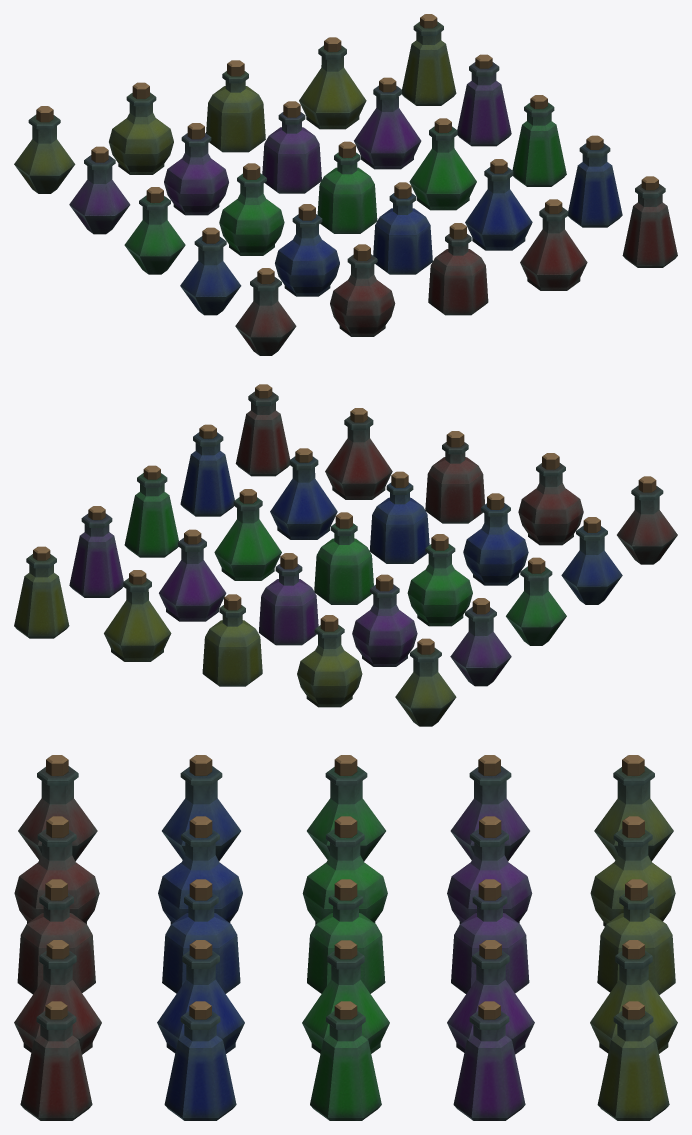
File: low_poly_potions.glb
3 renders of one model, top to bottom at view 1: azimuth 30°, elevation 25°; view 2: azimuth 150°, elevation 25°; view 3: azimuth 270°, elevation 25°, orthographic. The views are drawn at different scales.
Parts seen in each view (by area): view 1: Cylinder.067; view 2: Cylinder.067; view 3: Cylinder.067.
Part boxes in pixels (box(x1,y1,x2,y2)): Cylinder.067: box(14, 14, 677, 355); Cylinder.067: box(14, 384, 677, 726); Cylinder.067: box(14, 755, 677, 1120).
Bounding box in the file's own units: 17.85 × 3.27 × 18.42.
7 materials, 3 textured.
